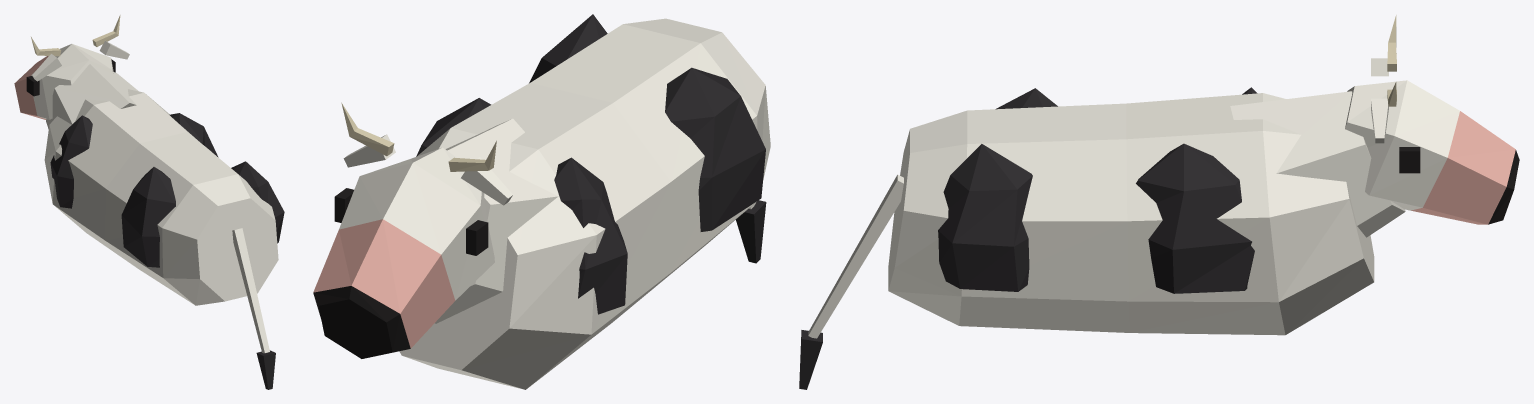
File: animal_cow.obj
The picture shows the model from 3 angles, left to right: view 1: azimuth 30°, elevation 25°; view 2: azimuth 150°, elevation 25°; view 3: azimuth 270°, elevation 25°; orthographic projection. The views are drawn at different scales.
Parts seen in each view (by area): view 1: animal_cow; view 2: animal_cow; view 3: animal_cow.
Part boxes in pixels (x1,y1,x2,y2): animal_cow: (14, 15, 284, 389); animal_cow: (313, 14, 770, 389); animal_cow: (799, 15, 1519, 389).
Bounding box in the file's own units: 0.6281 × 0.9536 × 1.83.
